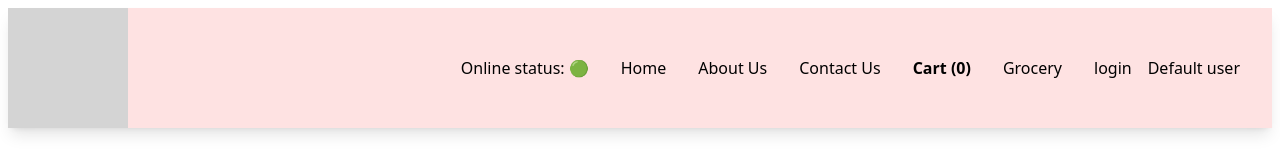
Test: should load header component with a login button
This screenshot has width=1280, height=160.
Click the button "login" at (1113, 68), box [1078,56,1148,80]
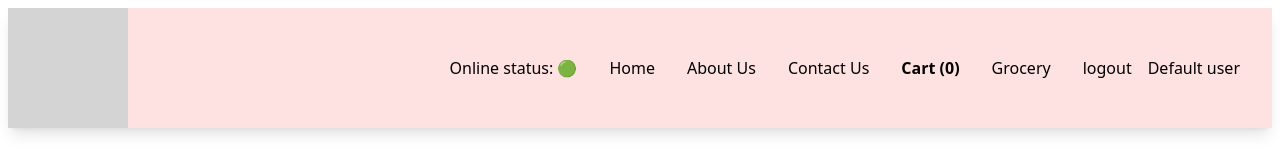
Check: the button "logout" is shown, box [1067,56,1148,80]
